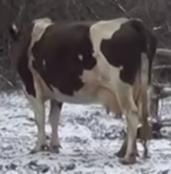cow: (14, 18, 156, 165)
